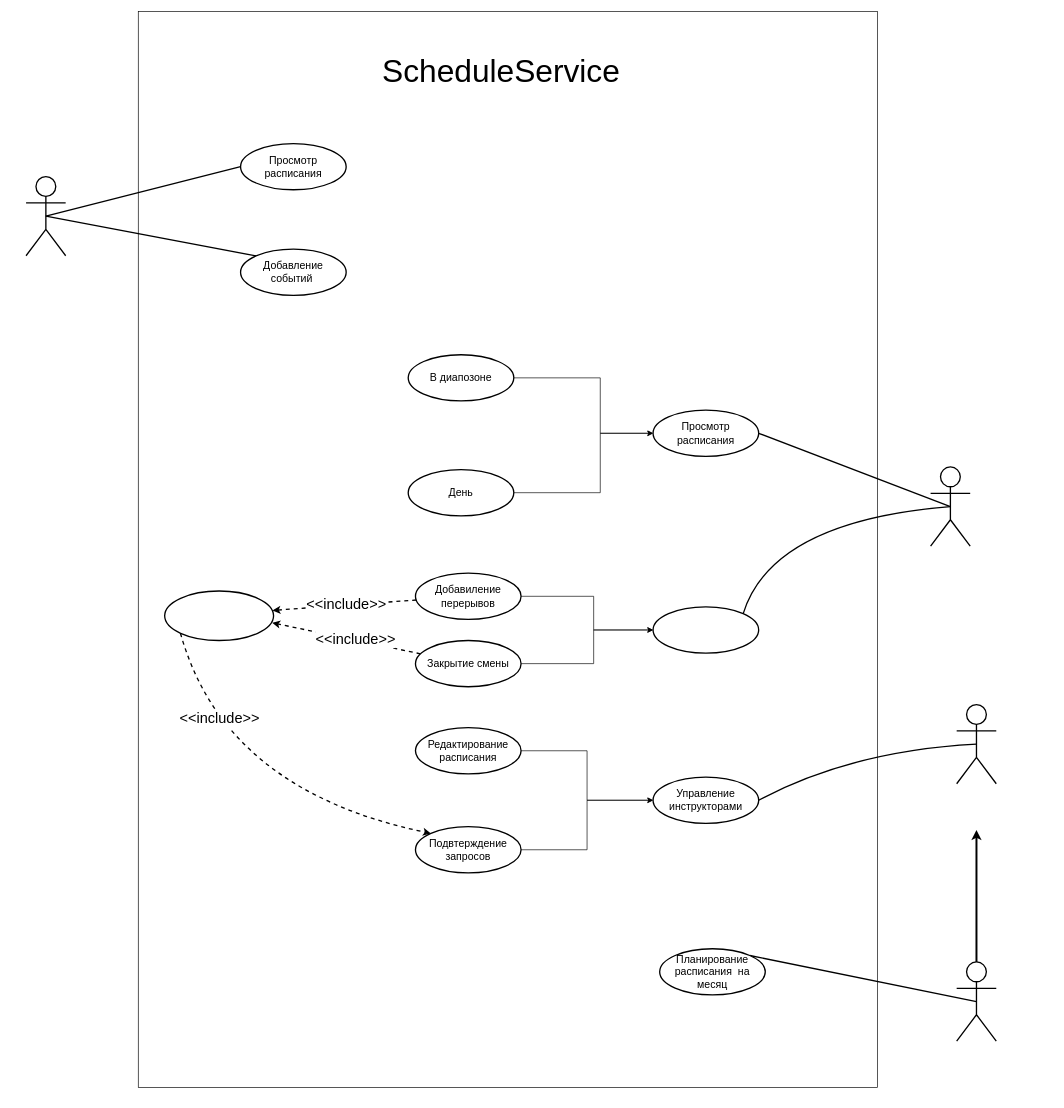
Image size: 1064x1108. Some labels were removed from this diagram. Here are the shapes that lost their labels. From the top down, the centre of each, then its label:
At (x=45, y=216): "Клиент".
At (x=950, y=506): "Инструктор".
At (x=219, y=615): "Подтверждение администратором".
At (x=705, y=629): "Управление активной сменой".
At (x=976, y=744): "Администратор".
At (x=976, y=1001): "Старший администратор".
